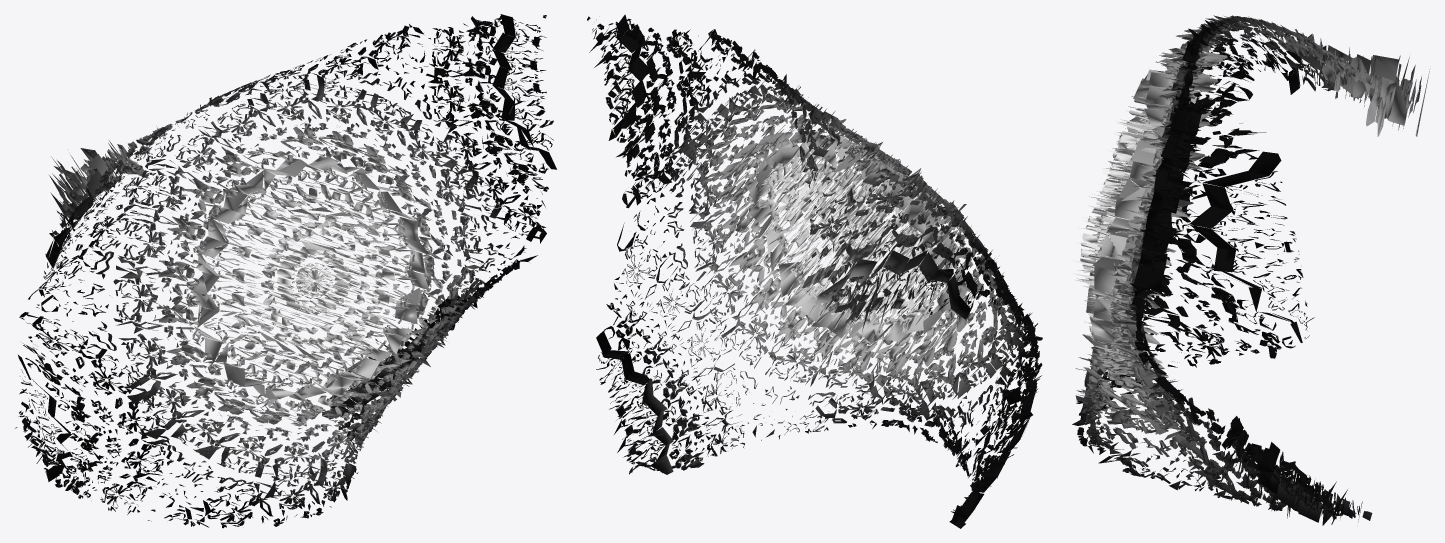
The model's file is angry-napkin-mono-v95.glb.
3 renders of one model, left to right at view 1: azimuth 30°, elevation 25°; view 2: azimuth 150°, elevation 25°; view 3: azimuth 270°, elevation 25°, orthographic. The views are drawn at different scales.
Visible parts, largest first — view 1: MONO; view 2: MONO; view 3: MONO.
Boxes of the visible parts, x1,y1,x2,y2 form: MONO: [15, 14, 556, 528]; MONO: [587, 14, 1042, 528]; MONO: [1072, 15, 1429, 525].
Size of the model in its own units: 3.88 by 3.18 by 2.14.
1 material, 1 textured.
